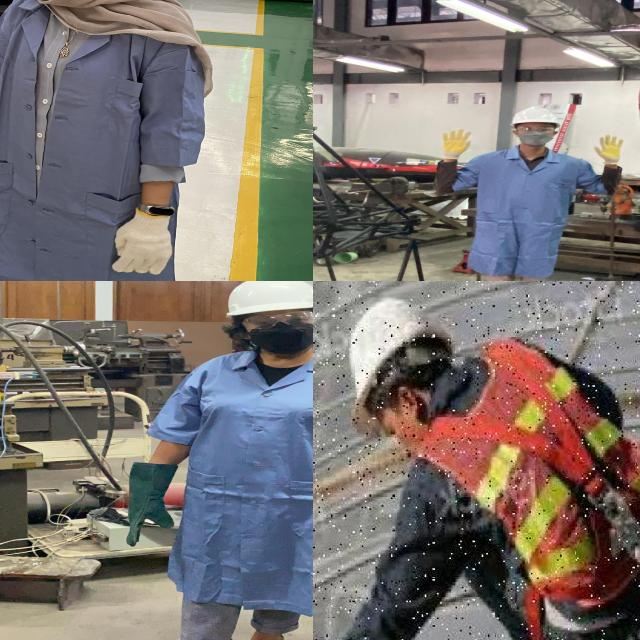Harness: (415, 317, 640, 640)
face_mask: (236, 309, 313, 353), (511, 122, 557, 146)
glasses: (236, 310, 313, 331), (510, 123, 560, 134)
hand_glove: (104, 482, 191, 550), (110, 206, 182, 277), (437, 126, 474, 160), (589, 134, 630, 163)
head_helmet: (215, 281, 313, 320), (506, 106, 564, 128)
person: (98, 281, 313, 640), (0, 0, 222, 281), (422, 104, 640, 281)
